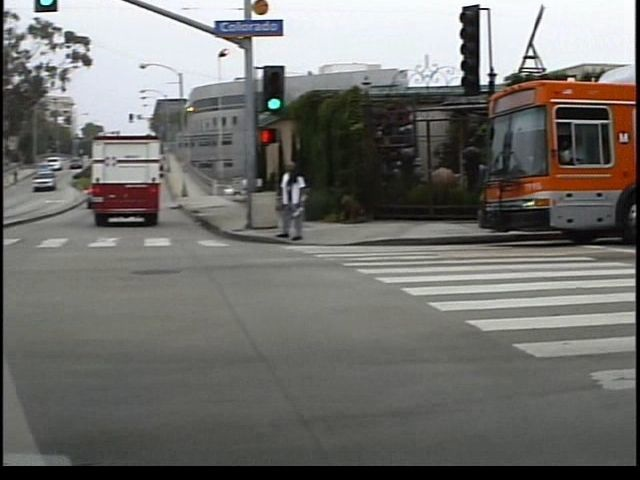person: (282, 156, 315, 242)
